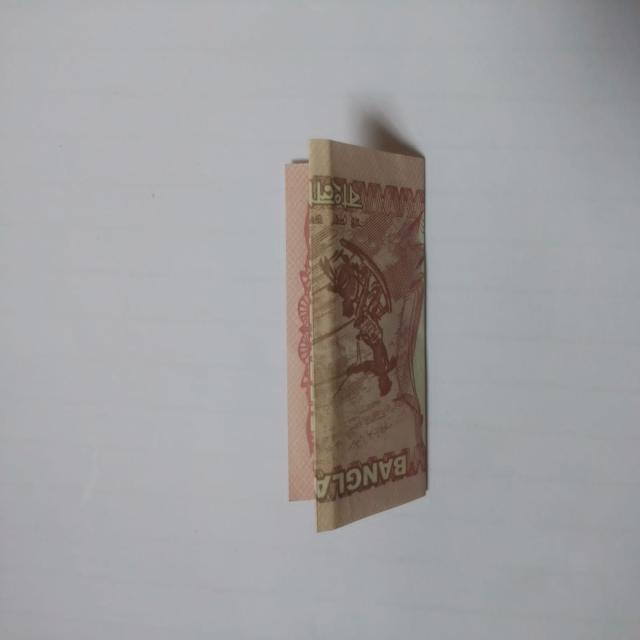Taka: (295, 107, 431, 530)
